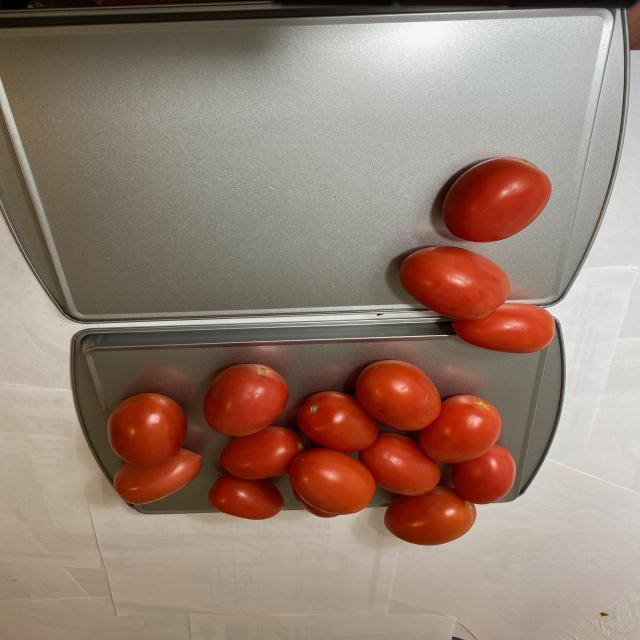tomato: (99, 356, 522, 546), (398, 146, 558, 353)
